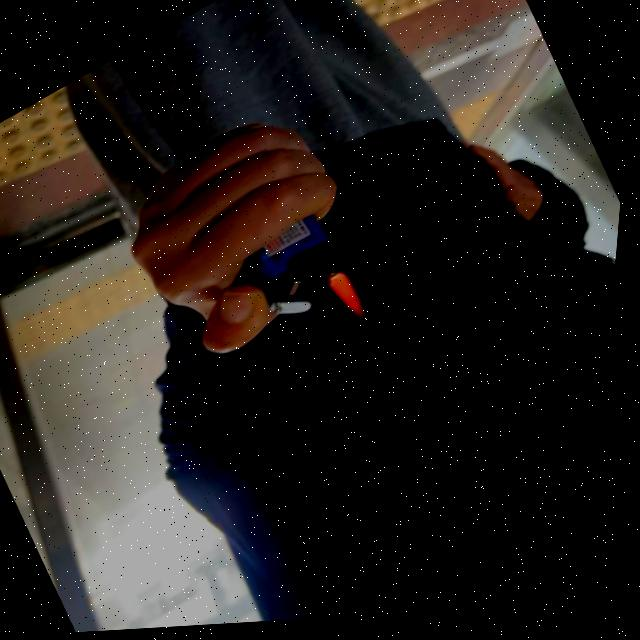Fire: (329, 275, 379, 334)
